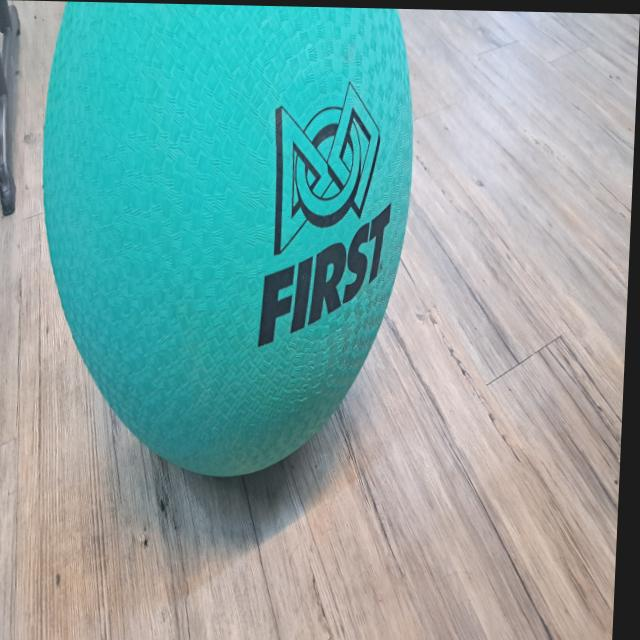ALGAE: (27, 1, 421, 483)
